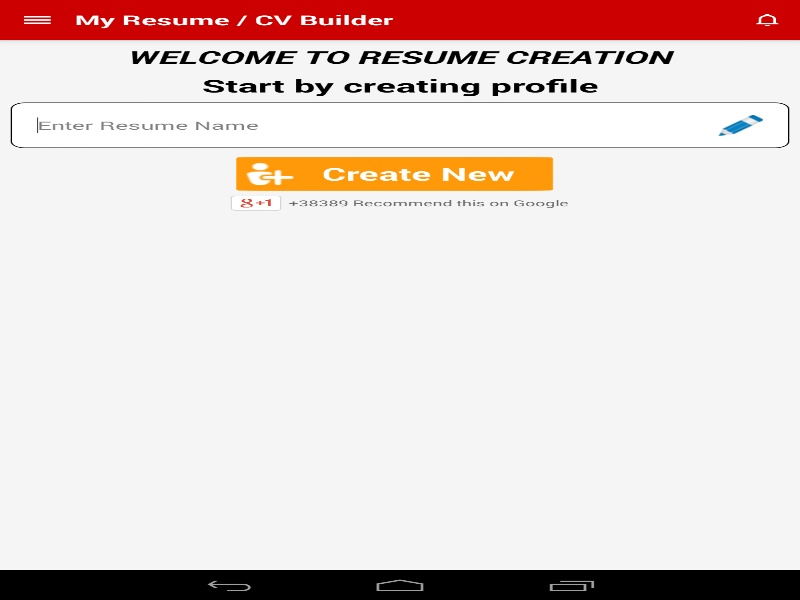Button: (236, 156, 553, 190), (0, 2, 74, 37)
Input: (10, 102, 789, 148)
